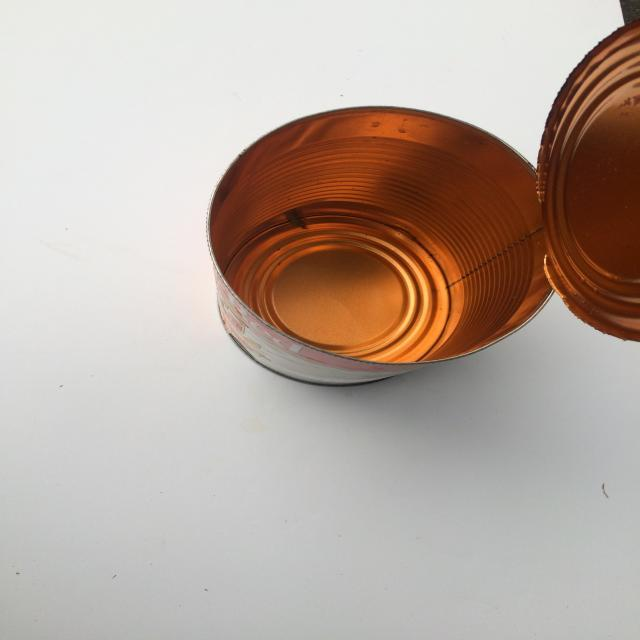metal: (206, 18, 640, 390)
